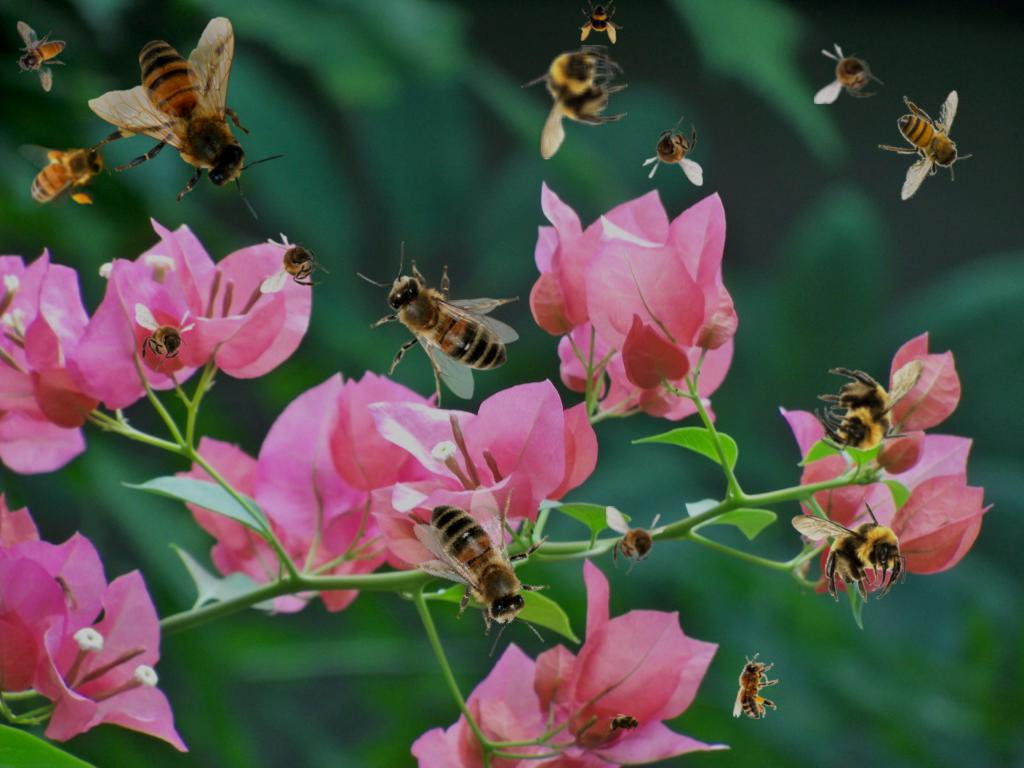Bee: (380, 459, 591, 673), (88, 16, 287, 220), (357, 241, 519, 408), (800, 327, 945, 476), (791, 496, 906, 603), (521, 45, 628, 160), (878, 90, 972, 201), (18, 140, 111, 208), (814, 43, 884, 104), (135, 303, 196, 373), (606, 506, 667, 576), (642, 116, 703, 186), (260, 232, 330, 293), (16, 21, 66, 92), (733, 653, 778, 719), (579, 0, 623, 44), (605, 713, 645, 735)
